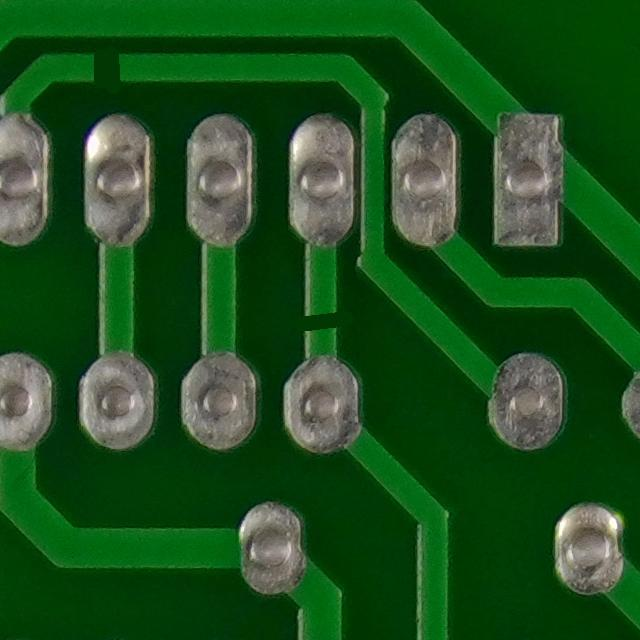open_circuit: (293, 294, 348, 346)
